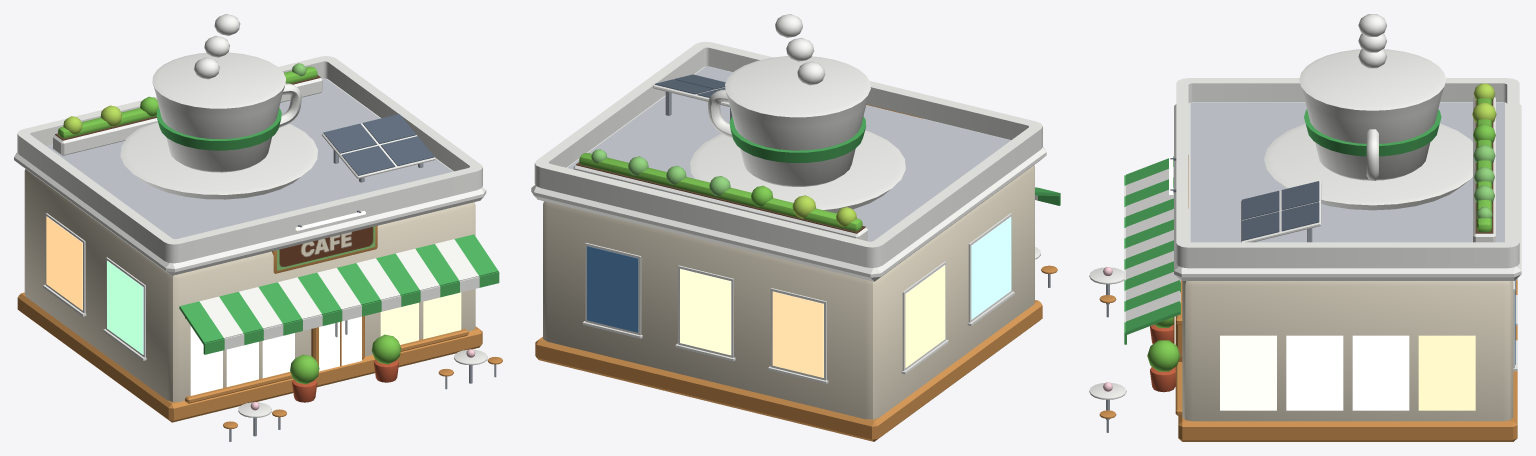
File: cafe_ecologico.glb
3 views of the same model, side by side, from view 1: azimuth 30°, elevation 25°; view 2: azimuth 150°, elevation 25°; view 3: azimuth 270°, elevation 25° (orthographic). The views are drawn at different scales.
Visible parts, largest first — view 1: cafe_ecologico; view 2: cafe_ecologico; view 3: cafe_ecologico.
Boxes of the visible parts, box(x1,y1,x2,y2) form: cafe_ecologico: box(14, 14, 502, 441); cafe_ecologico: box(531, 14, 1060, 441); cafe_ecologico: box(1089, 14, 1521, 441).
Size of the model in its own units: 9.8 by 9.03 by 10.45.
Materials: 8 (2 with a texture image).
